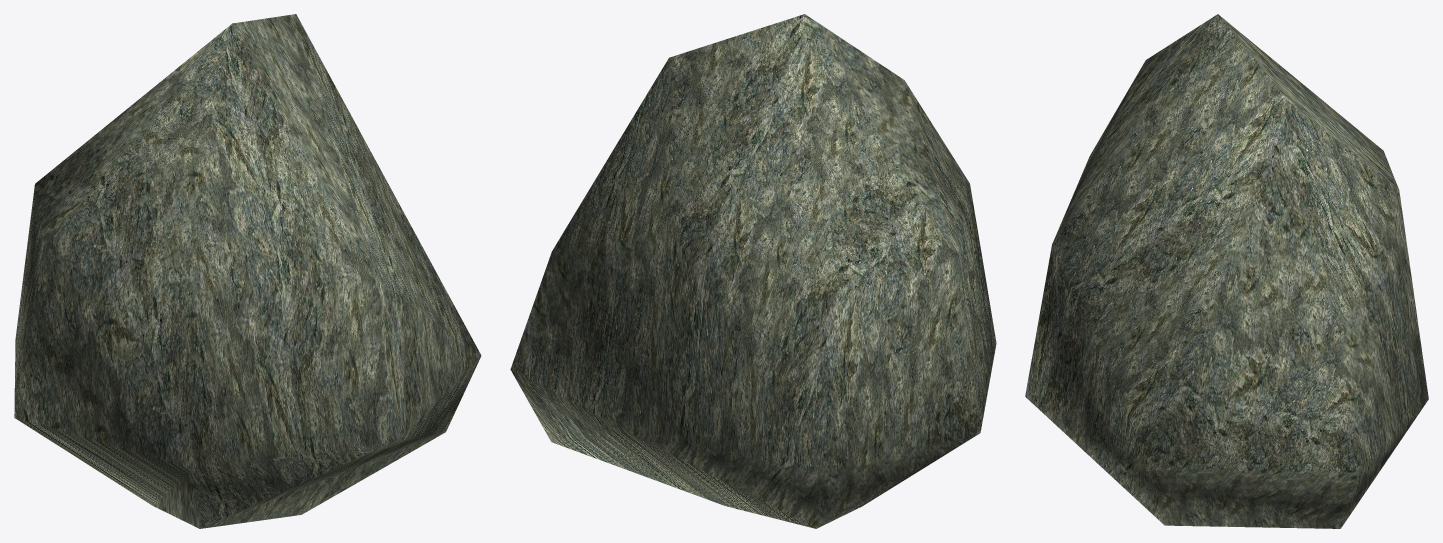
File: mtns_rock_grey_a7_l1.fbx
3 renders of one model, left to right at view 1: azimuth 30°, elevation 25°; view 2: azimuth 150°, elevation 25°; view 3: azimuth 270°, elevation 25°, orthographic. The views are drawn at different scales.
Parts seen in each view (by area): view 1: mesh_node; view 2: mesh_node; view 3: mesh_node.
Part boxes in pixels (x1,y1,x2,y2): mesh_node: (14,14,481,528); mesh_node: (510,14,996,528); mesh_node: (1025,14,1428,528).
Bounding box in the file's own units: 0.8454 × 0.9054 × 0.7181.
1 material, 1 textured.
